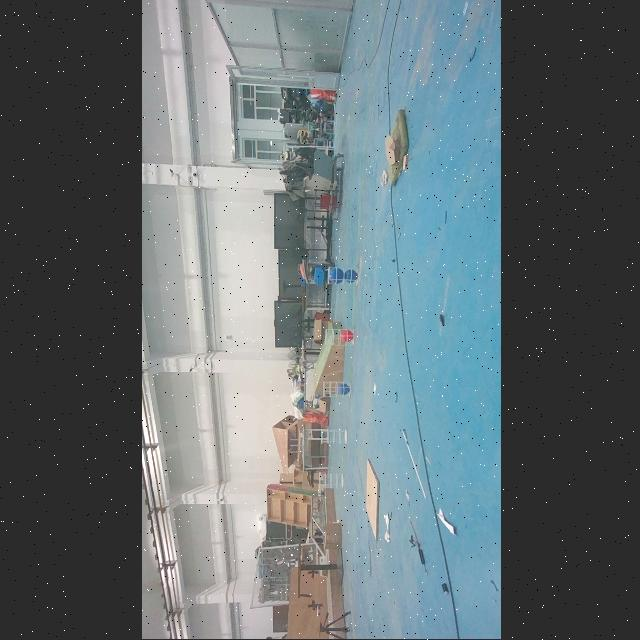B: (328, 266, 342, 286), (342, 267, 354, 285), (337, 383, 347, 397)
R: (340, 329, 350, 343)
S: (324, 264, 360, 288), (321, 326, 355, 348), (321, 380, 352, 400), (317, 427, 347, 447), (314, 471, 344, 491)
